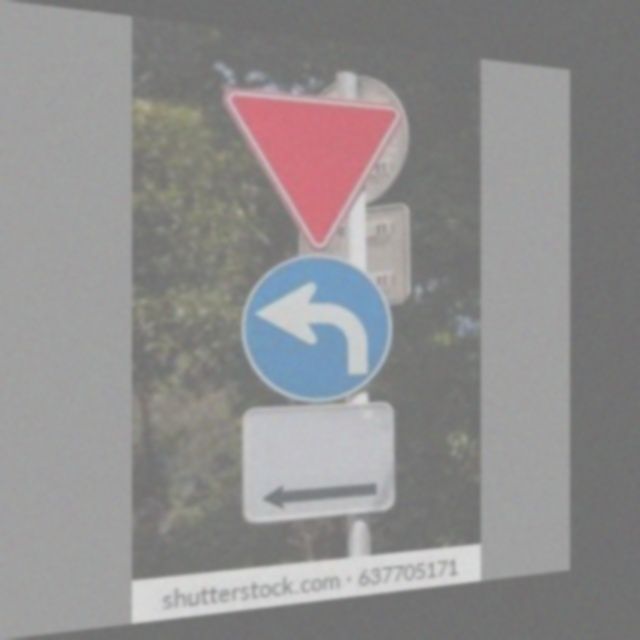Compulsory_Turn_Left_Ahead: (242, 256, 393, 403)
